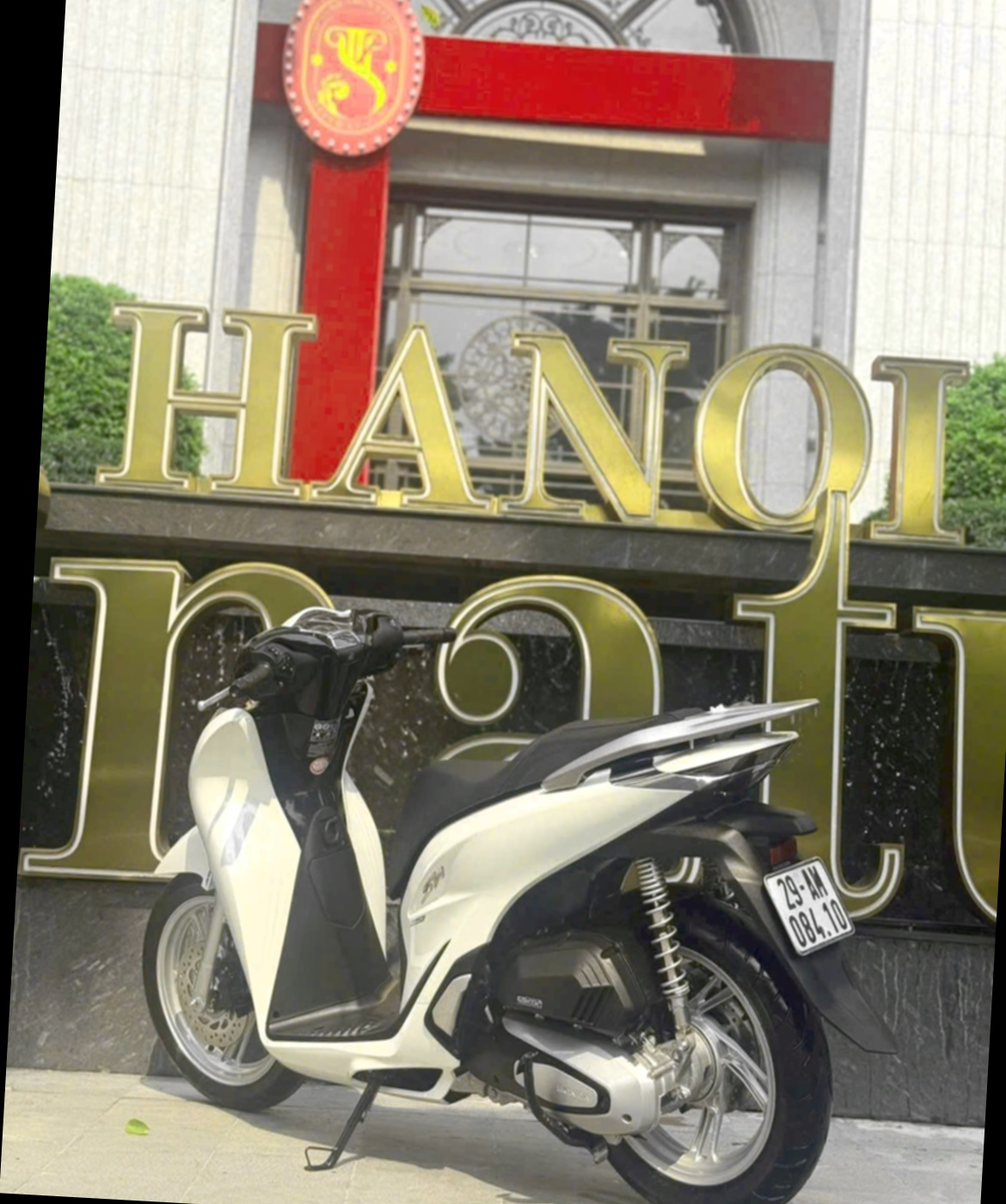Bien-so: (755, 846, 863, 963)
